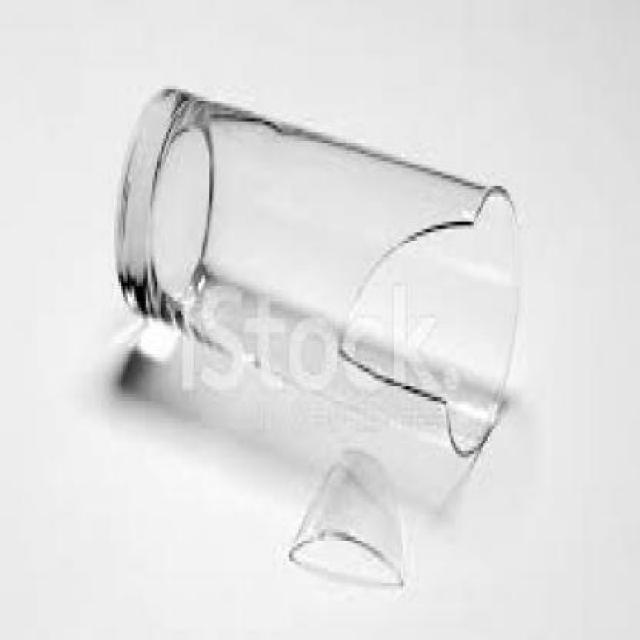kaca: (114, 81, 532, 462), (288, 448, 402, 586)
